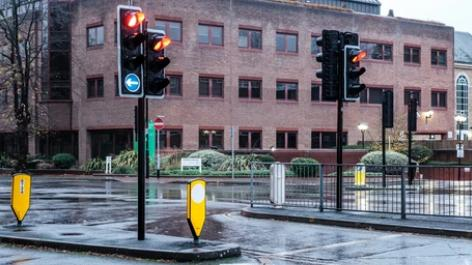red_light: (116, 4, 144, 72), (144, 29, 170, 99), (344, 45, 366, 101)
